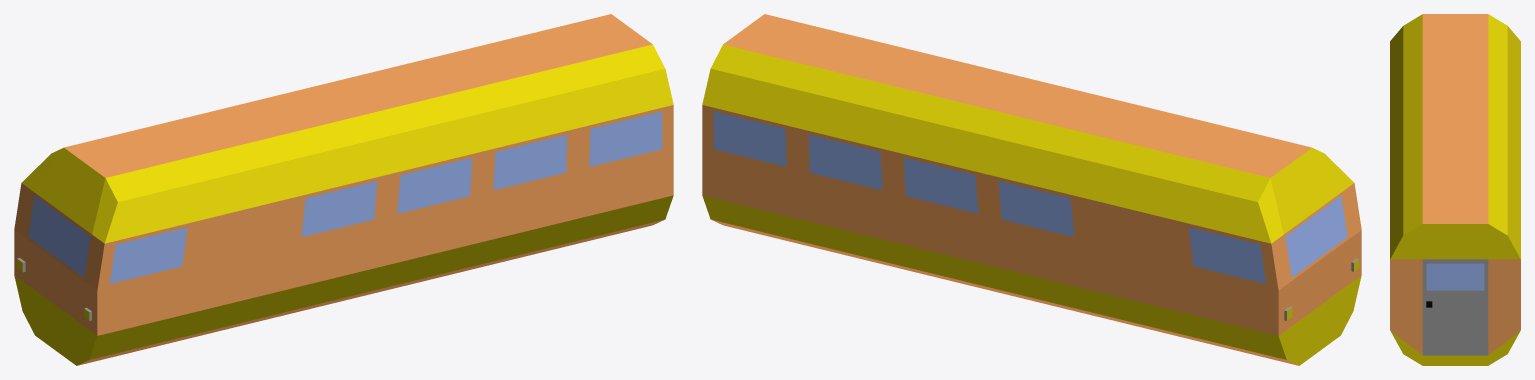
The model's file is Train 1.fbx.
3 views of the same model, side by side, from view 1: azimuth 30°, elevation 25°; view 2: azimuth 150°, elevation 25°; view 3: azimuth 270°, elevation 25° (orthographic). The views are drawn at different scales.
Visible parts, largest first — view 1: Train; view 2: Train; view 3: Train.
Part boxes in pixels (x1,y1,x2,y2): Train: [14, 14, 673, 365]; Train: [702, 14, 1361, 365]; Train: [1390, 14, 1520, 365].
Size of the model in its own units: 402 by 120 by 100.
